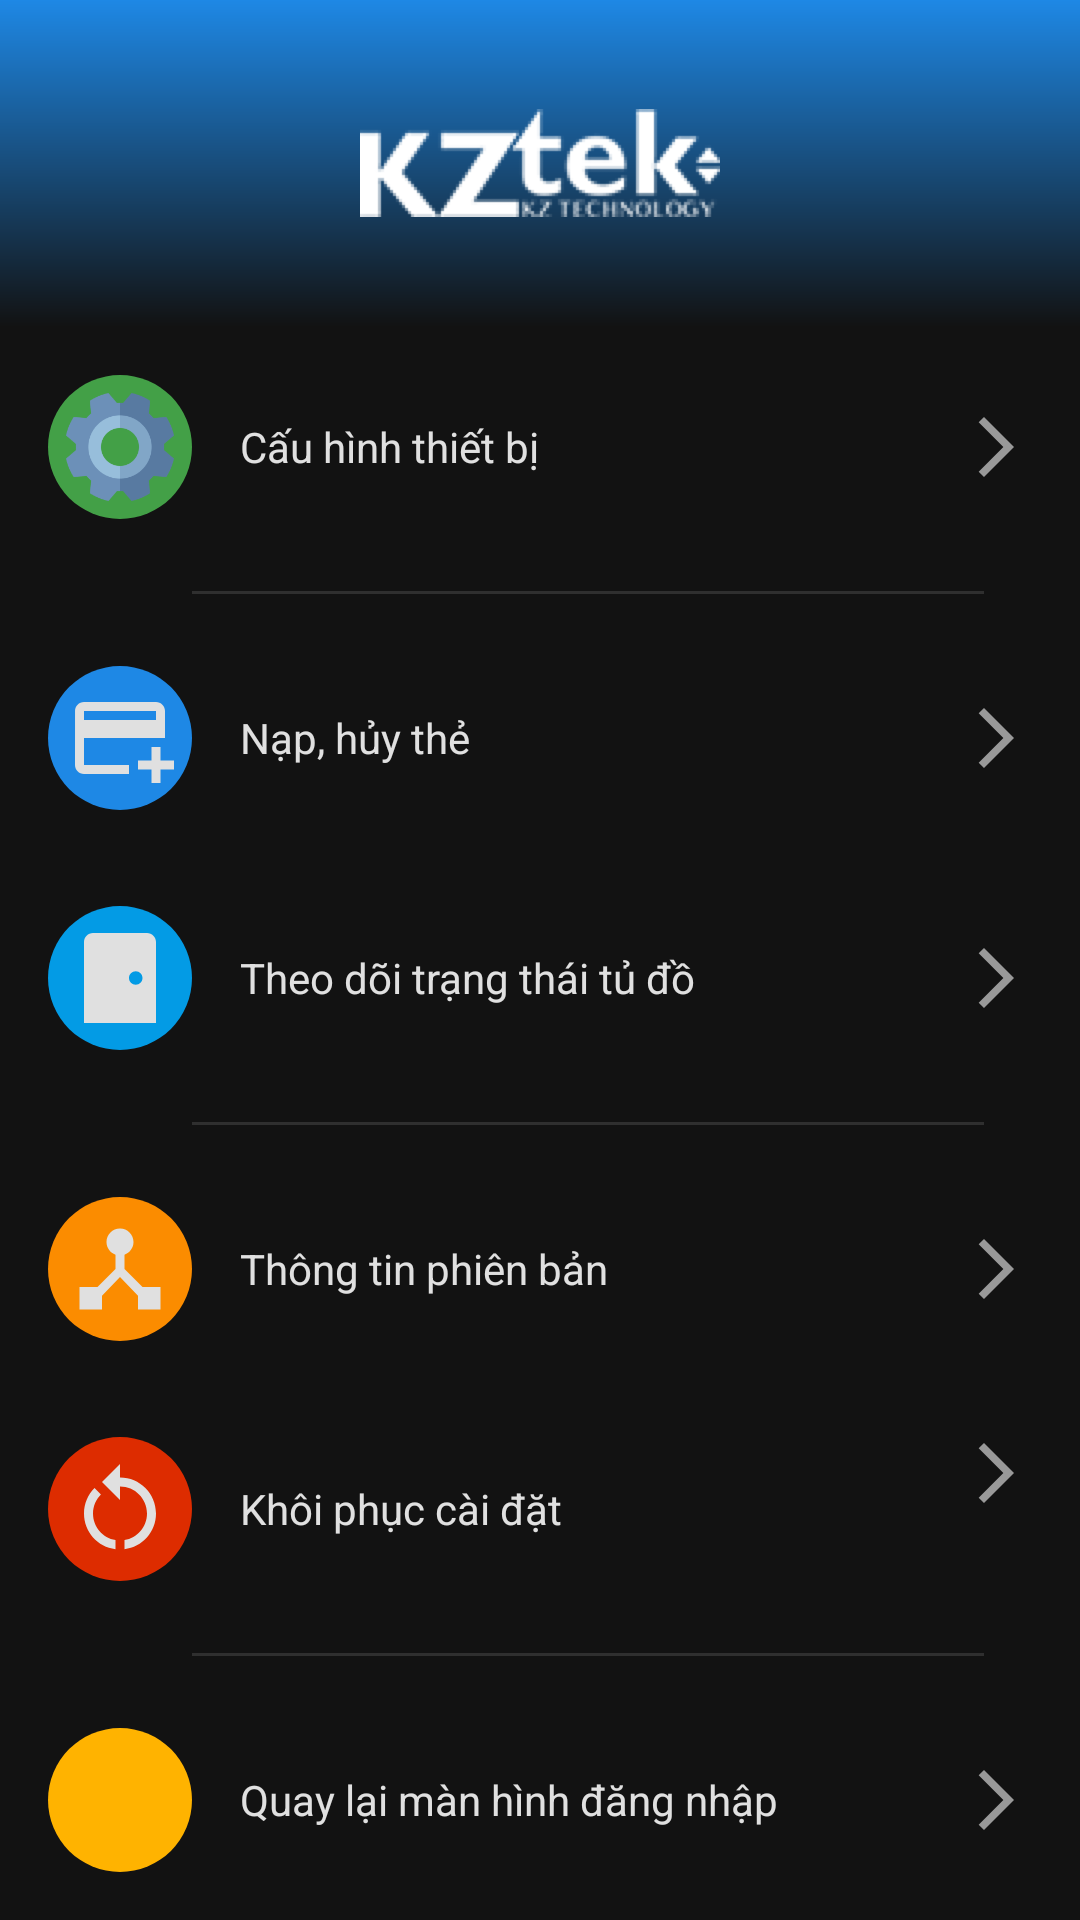

Screen size 1080 x 1920. Icon name, then its box in pixels as (left=x1, top=y1, right=x2, bottom=y2):
arrow right: (left=979, top=417, right=1014, bottom=477), (left=979, top=708, right=1014, bottom=768), (left=979, top=948, right=1014, bottom=1008), (left=979, top=1239, right=1014, bottom=1299), (left=979, top=1443, right=1014, bottom=1503), (left=979, top=1770, right=1014, bottom=1830)
card: (left=48, top=666, right=192, bottom=810)
reset: (left=48, top=1437, right=192, bottom=1581)
setting: (left=48, top=375, right=192, bottom=519)
version: (left=48, top=1197, right=192, bottom=1341)
